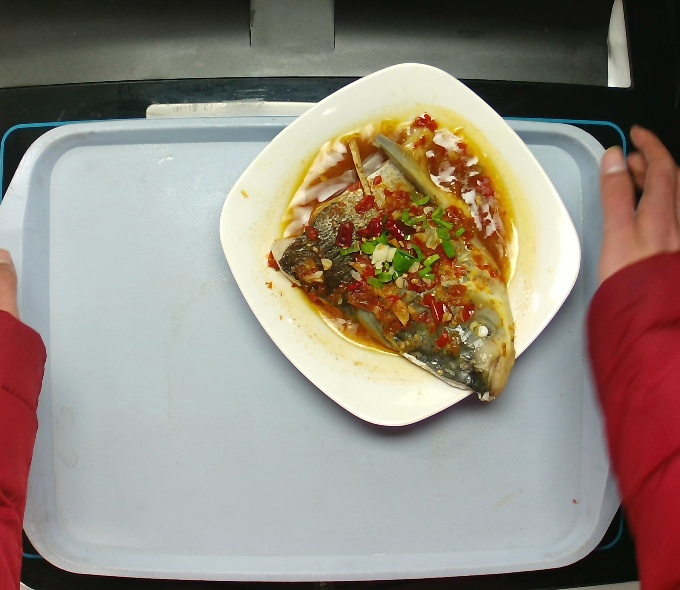wcq-DuoJiaoYuTou: (274, 101, 535, 415)
